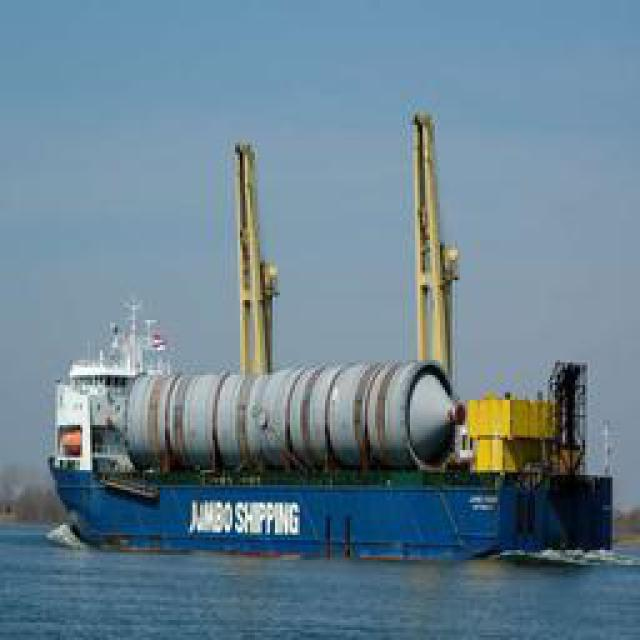Ship: (33, 173, 625, 568)
